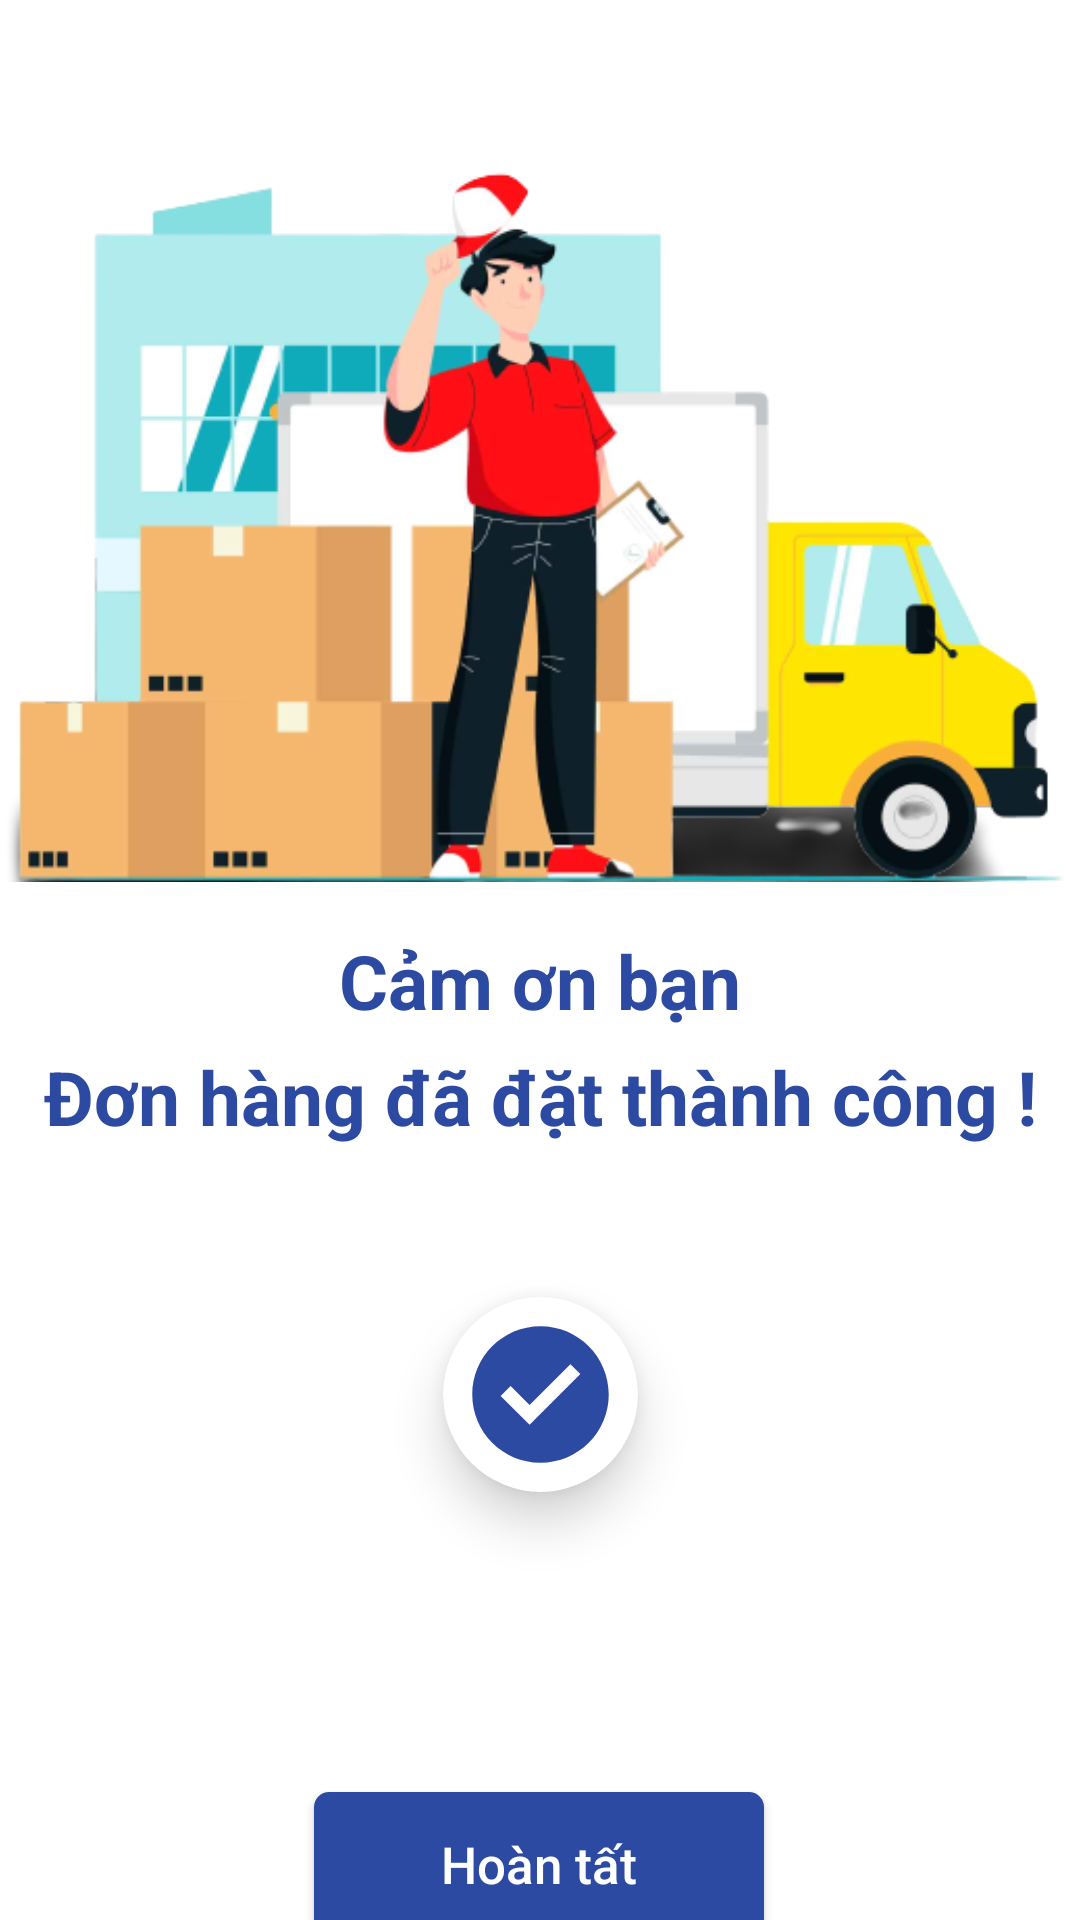

Locate icon controls on the screen. Image size 1080px×1920px, boxes as detection(x1, y1, x2, y2).
tick: detection(472, 1326, 609, 1463)
